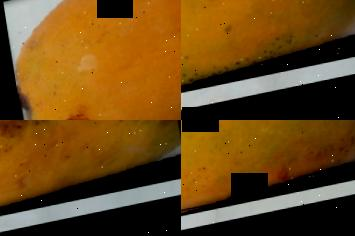PartiallyRipe: (181, 0, 355, 107), (181, 120, 355, 224)
Ripe: (0, 0, 181, 120), (0, 120, 181, 234)
